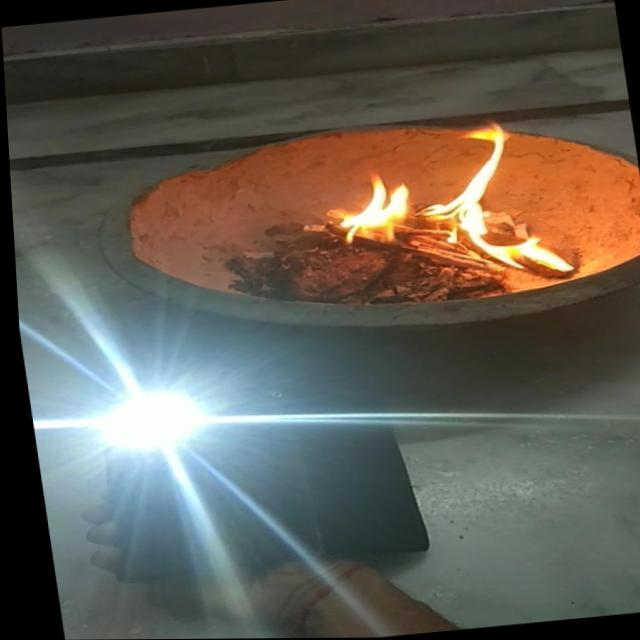fire: (322, 115, 575, 294)
